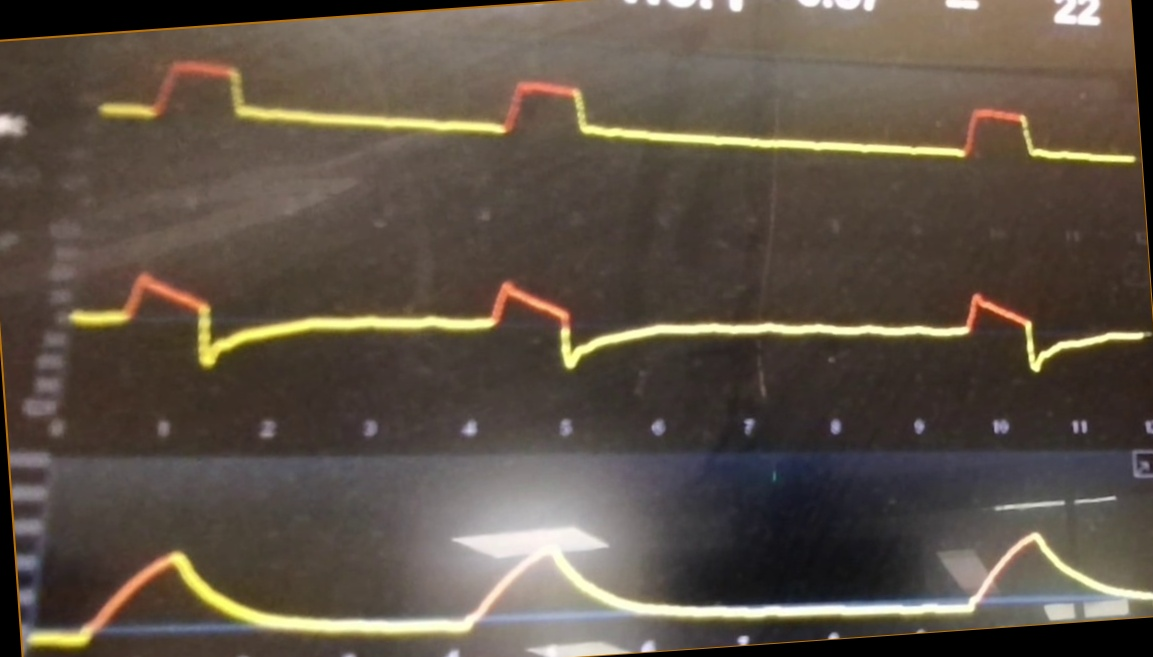Normal Flow: (69, 248, 1148, 383)
Normal Volume: (31, 508, 1153, 647)
